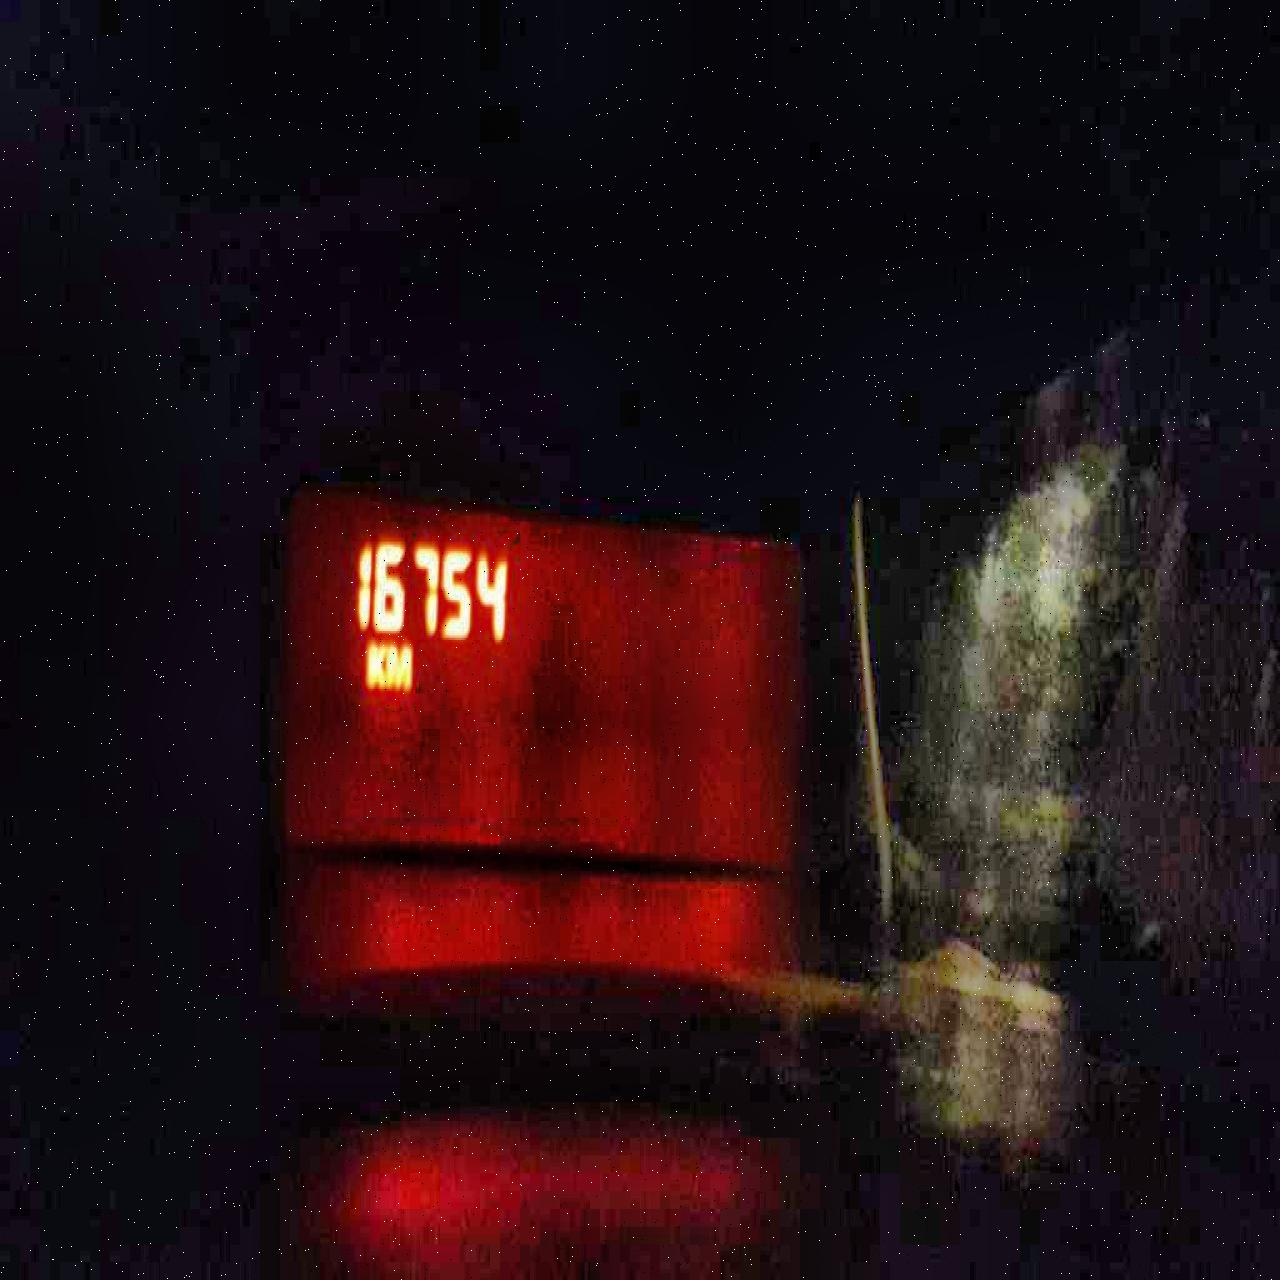1: (355, 531, 370, 629)
4: (472, 544, 506, 638)
5: (440, 542, 470, 642)
6: (374, 533, 406, 633)
7: (410, 536, 437, 633)
X: (383, 638, 413, 692), (365, 635, 384, 692)
odometer: (284, 477, 803, 876)
